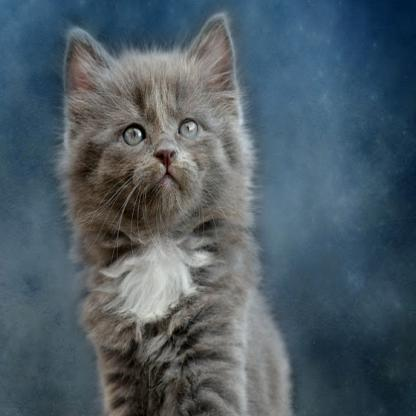cat: (61, 12, 295, 415)
